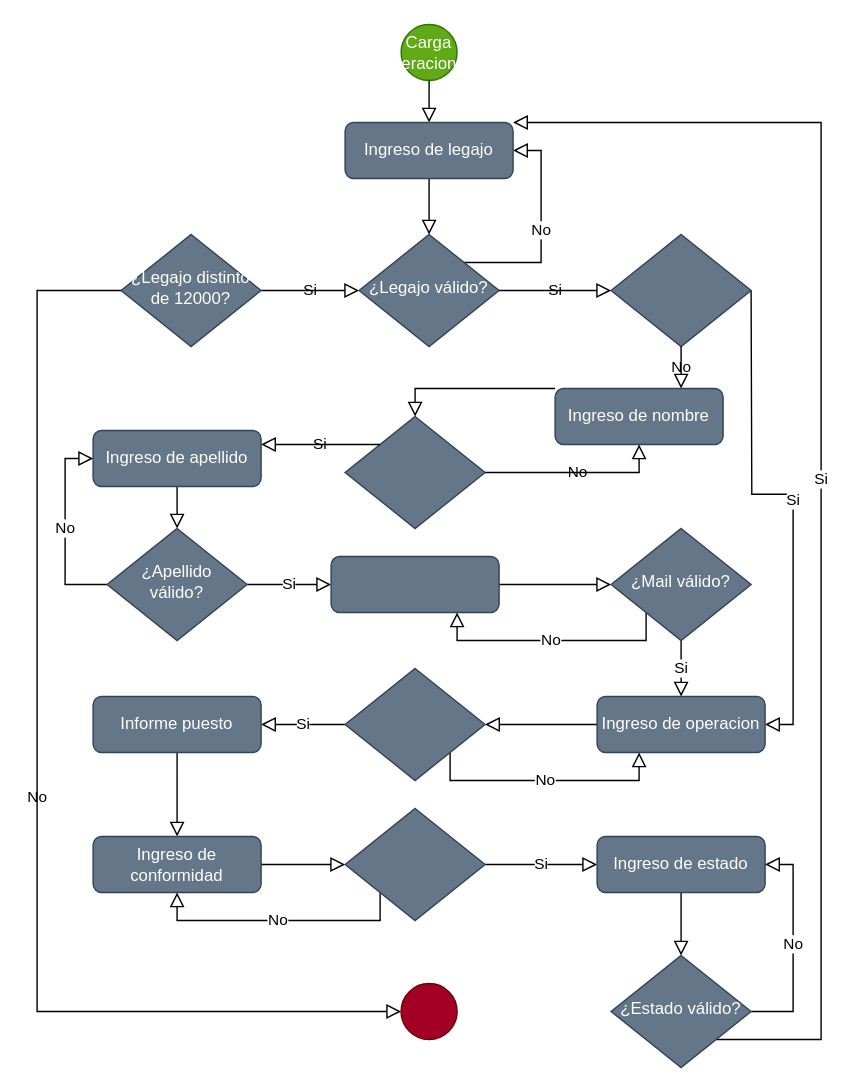
Image size: 860x1092. Some labels were removed from this diagram. Each missing label, with the centre of its shape:
"I ngreso de mail" goes at point (414, 583).
"Informe general" goes at point (428, 1011).
"¿Conformidad válida?" goes at point (414, 863).
"¿Legajo ya ingresado?" goes at point (680, 289).
"¿Nombre válido?" goes at point (414, 471).
"¿Operación válida?" goes at point (414, 723).
